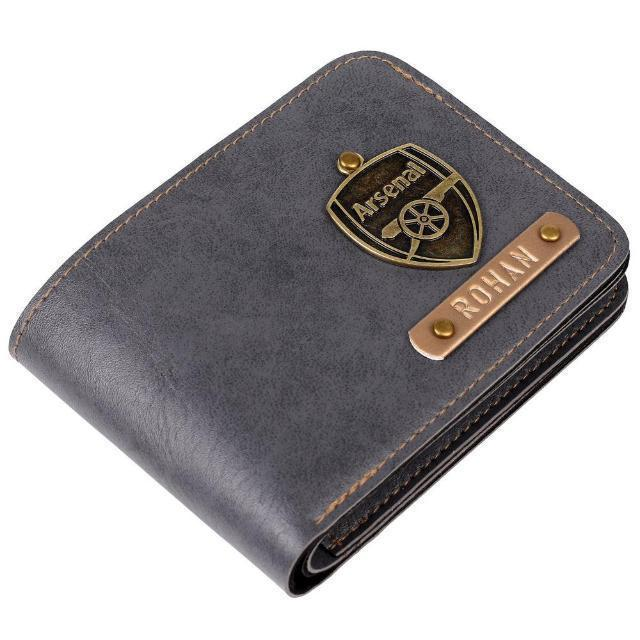wallet: (2, 48, 630, 600)
